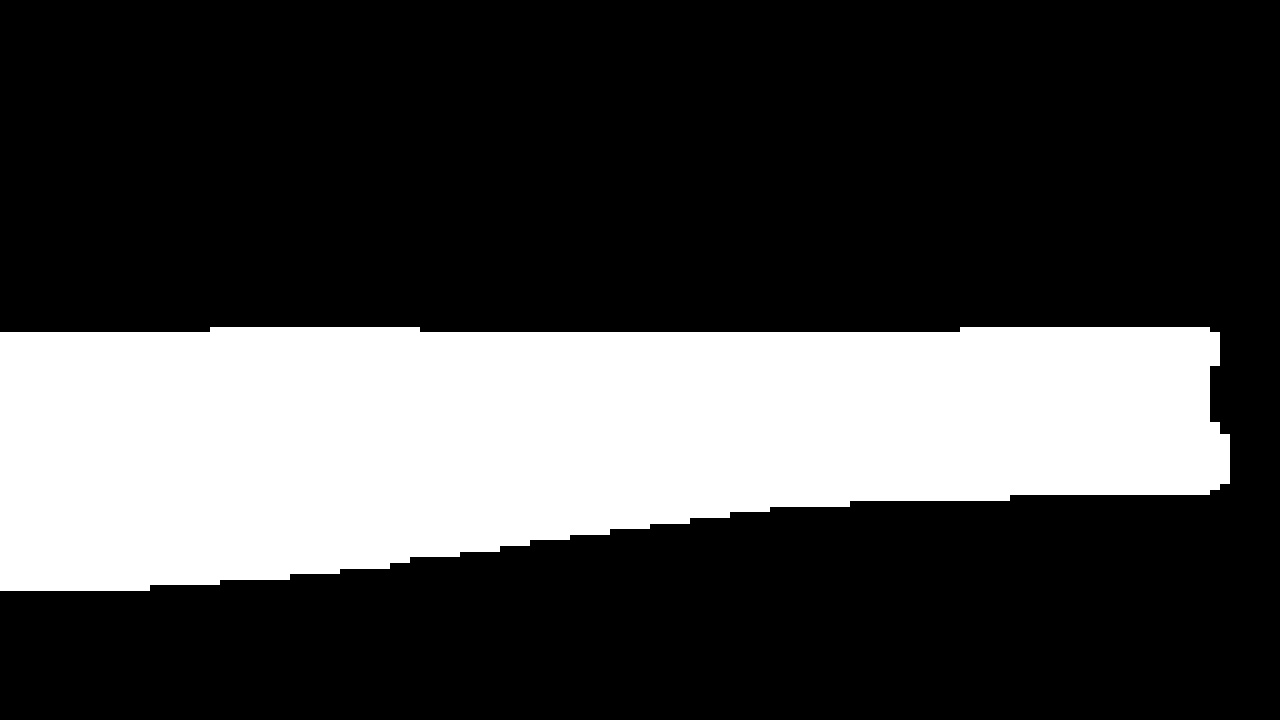Turbine: (6, 309, 1232, 626)
